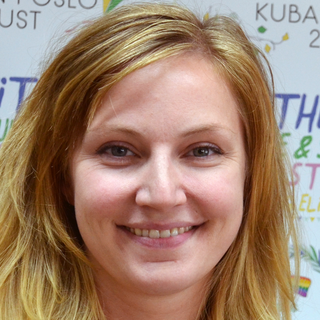eye: (172, 138, 228, 169), (92, 138, 145, 168)
